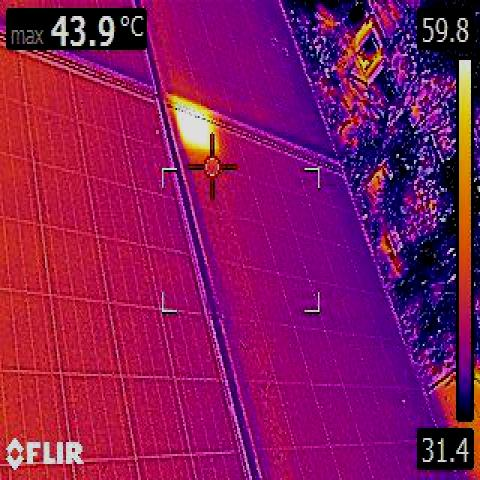fault: (177, 110, 219, 149)
